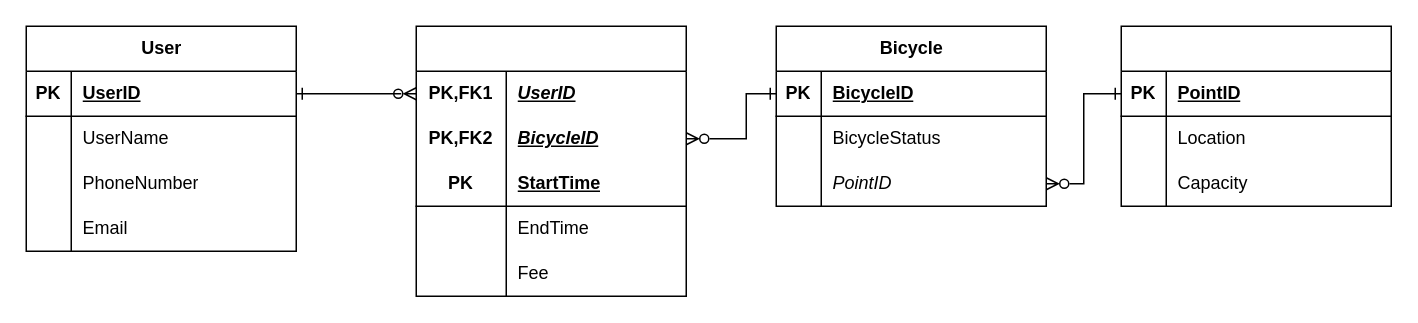
Image size: 1418x323. Some labels were removed from this diagram. Here are the shapes that lost their labels. From the top down, the box of each, then its label:
(1120, 25, 1391, 206): ParkingPoint
(415, 25, 686, 296): RideRecord
